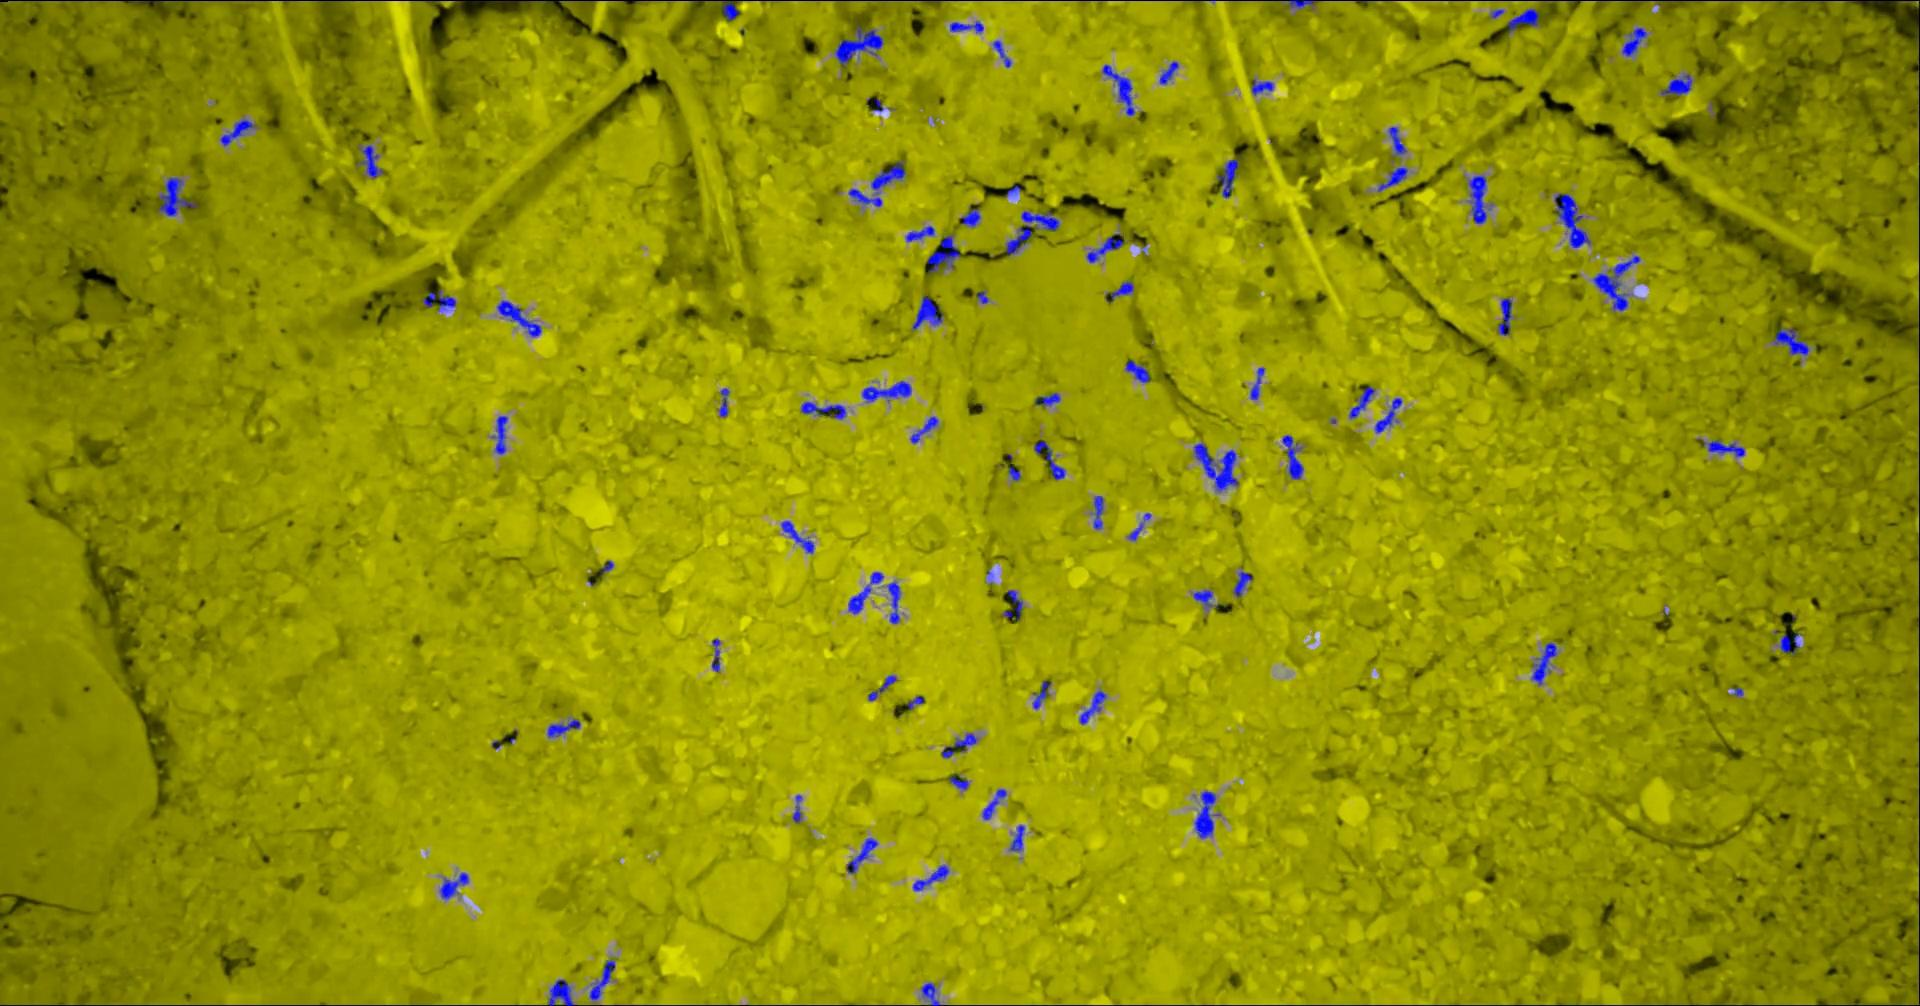ant: (1592, 255, 1639, 310), (848, 161, 905, 206), (1004, 210, 1059, 255), (1192, 443, 1238, 492), (836, 25, 883, 65), (1554, 193, 1589, 246), (1102, 64, 1134, 116), (497, 300, 541, 337), (157, 177, 197, 215), (847, 572, 883, 614), (926, 234, 959, 272), (1032, 439, 1064, 479), (1194, 791, 1219, 837), (846, 837, 877, 873), (780, 520, 813, 553), (1086, 232, 1123, 262), (861, 380, 910, 401), (1468, 175, 1490, 224), (1773, 326, 1810, 354), (1531, 641, 1556, 683), (912, 296, 942, 329), (589, 959, 615, 998), (912, 864, 949, 890), (1281, 434, 1303, 479), (218, 118, 254, 145), (1374, 398, 1401, 432), (1079, 690, 1105, 724), (941, 733, 977, 757), (1506, 8, 1539, 33), (1217, 159, 1238, 197), (1349, 386, 1374, 418), (359, 144, 383, 177), (439, 873, 469, 899), (982, 788, 1006, 819), (867, 674, 897, 700), (1377, 166, 1407, 191), (800, 401, 844, 418), (910, 417, 937, 443), (547, 979, 575, 1005), (1660, 74, 1691, 95), (1622, 27, 1646, 55), (422, 290, 455, 310), (1703, 439, 1743, 456), (547, 718, 579, 737), (1105, 279, 1133, 301), (1002, 589, 1022, 619), (491, 415, 507, 453), (886, 582, 900, 622), (1125, 359, 1149, 382), (992, 39, 1011, 67), (1497, 297, 1511, 335), (1031, 680, 1050, 708), (1388, 126, 1406, 155), (1192, 589, 1219, 608), (905, 225, 935, 241), (919, 982, 940, 1005), (1233, 572, 1252, 596), (1250, 367, 1263, 399), (960, 205, 980, 226), (1779, 633, 1799, 654), (1159, 61, 1178, 84), (949, 20, 983, 32), (720, 0, 739, 20), (1092, 495, 1103, 528), (1251, 79, 1272, 95), (1010, 824, 1023, 850), (717, 387, 729, 417), (1035, 392, 1059, 405), (1128, 522, 1143, 540), (949, 775, 968, 789), (711, 638, 719, 671), (792, 794, 801, 822), (1288, 0, 1318, 8), (905, 696, 923, 709), (1007, 466, 1020, 480), (121, 0, 190, 1)
